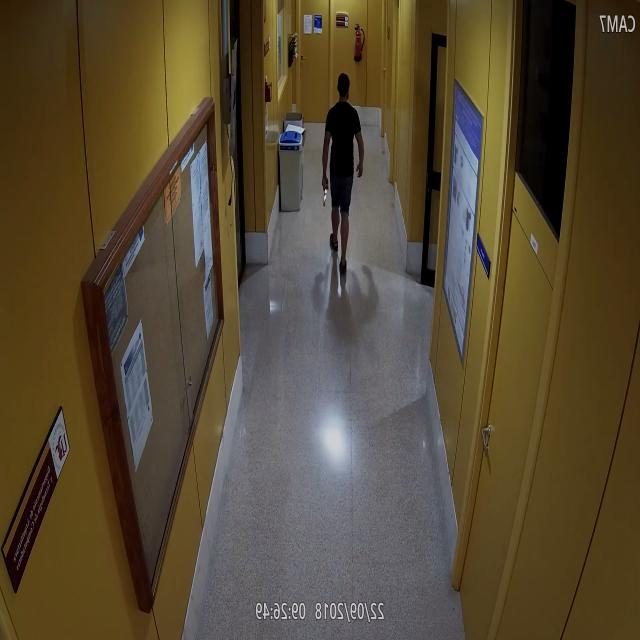pistol: (322, 172, 331, 207)
